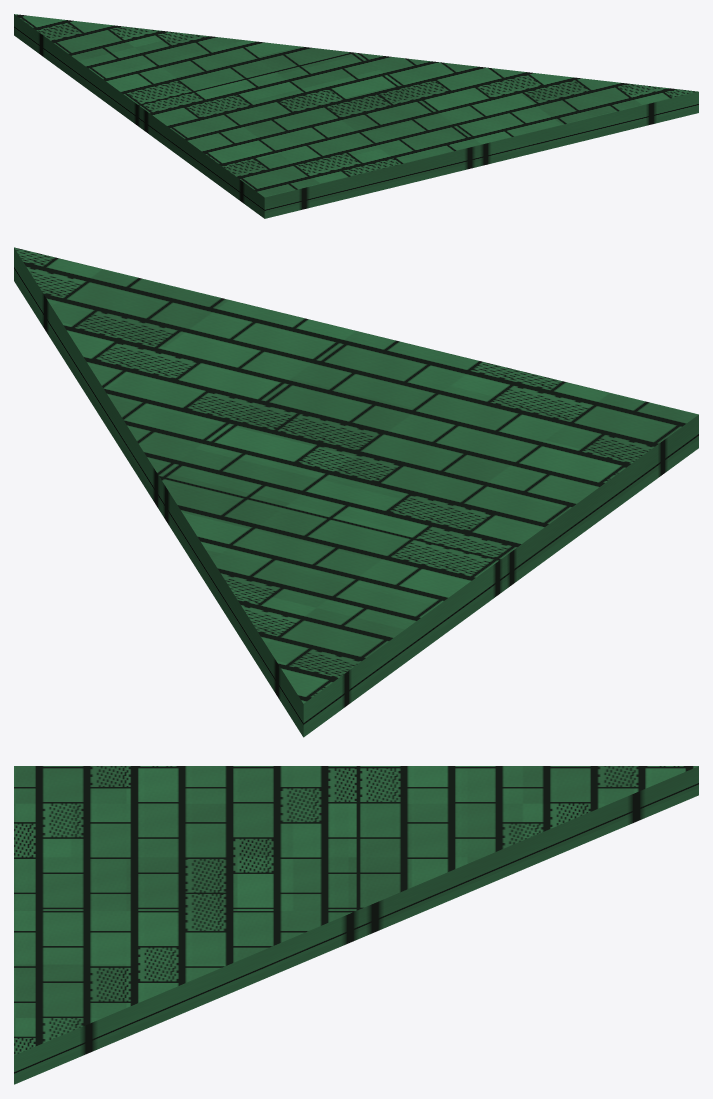
Rendered from theodosian green roof inverse.glb.
The picture shows the model from 3 angles, top to bottom: view 1: azimuth 30°, elevation 25°; view 2: azimuth 150°, elevation 25°; view 3: azimuth 270°, elevation 25°; orthographic projection. The views are drawn at different scales.
Parts seen in each view (by area): view 1: Theodosian_green_inverse; view 2: Theodosian_green_inverse; view 3: Theodosian_green_inverse.
Boxes of the visible parts, x1,y1,x2,y2 form: Theodosian_green_inverse: [14, 14, 698, 218]; Theodosian_green_inverse: [14, 247, 698, 737]; Theodosian_green_inverse: [14, 766, 698, 1084].
Bounding box in the file's own units: 1 × 0.047 × 1.
Materials: 1 (1 with a texture image).
